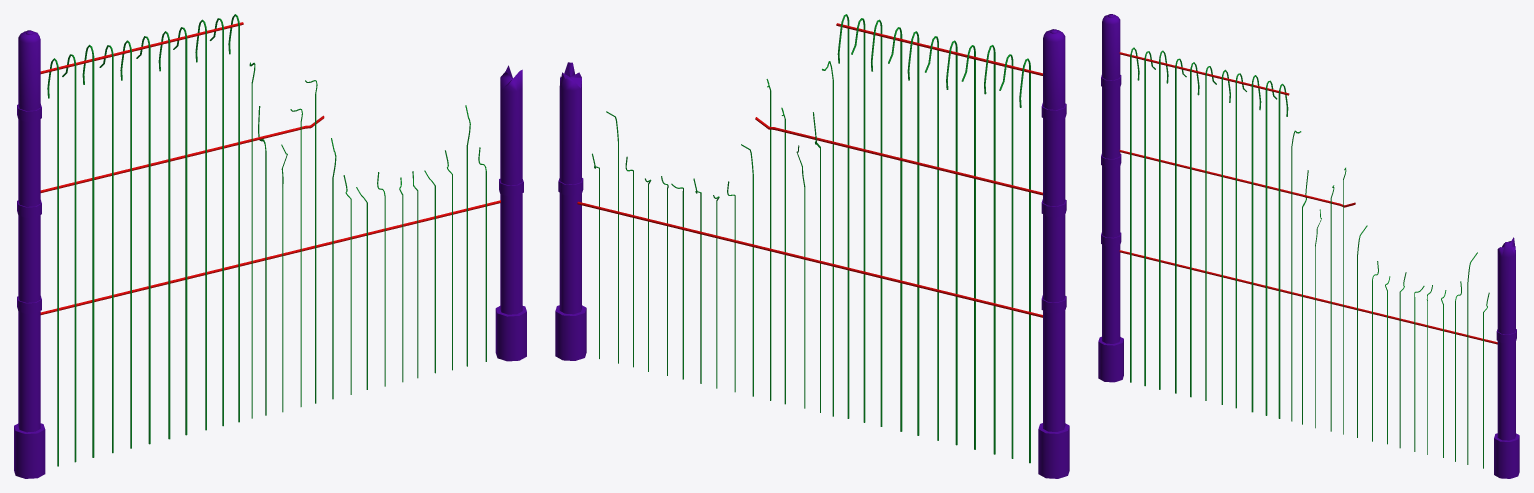
The model's file is Fence4.FBX.
3 views of the same model, side by side, from view 1: azimuth 30°, elevation 25°; view 2: azimuth 150°, elevation 25°; view 3: azimuth 330°, elevation 25° (orthographic). The views are drawn at different scales.
Parts seen in each view (by area): view 1: Line042; view 2: Line042; view 3: Line042.
Boxes of the visible parts, box(x1,y1,x2,y2) form: Line042: box(14, 14, 526, 478); Line042: box(555, 14, 1069, 478); Line042: box(1098, 14, 1519, 478).
Bounding box in the file's own units: 198 × 164 × 12.64.
